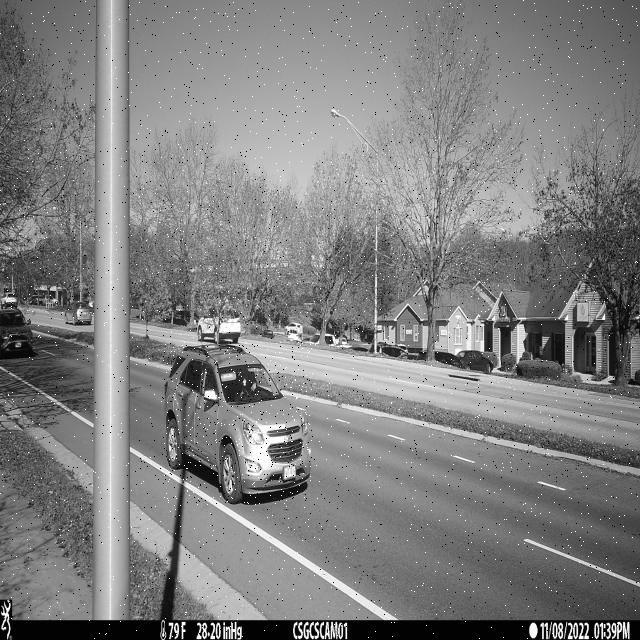SUV: (163, 342, 312, 505)
